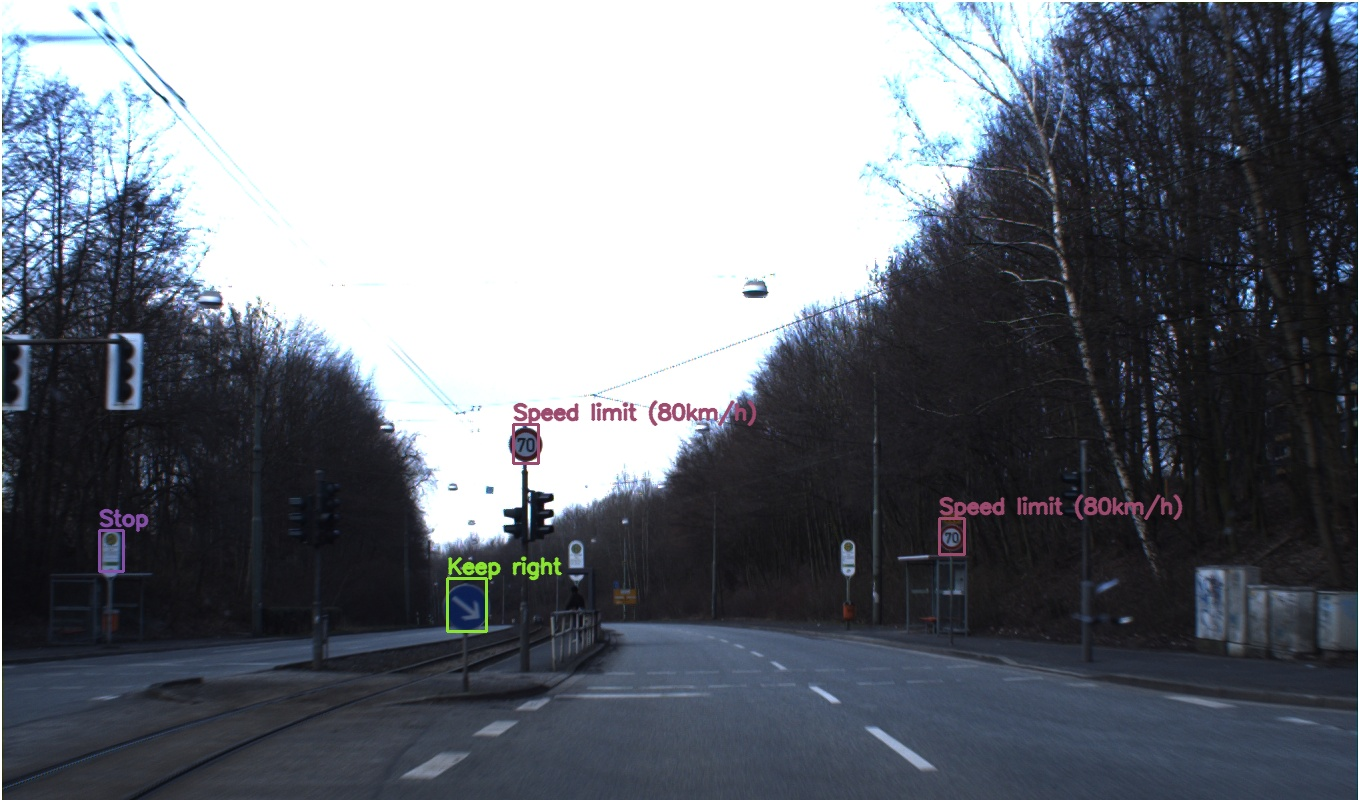Ahead only: (505, 415, 522, 432)
Go straight or right: (841, 432, 858, 450)
Priority road: (839, 408, 861, 432)
